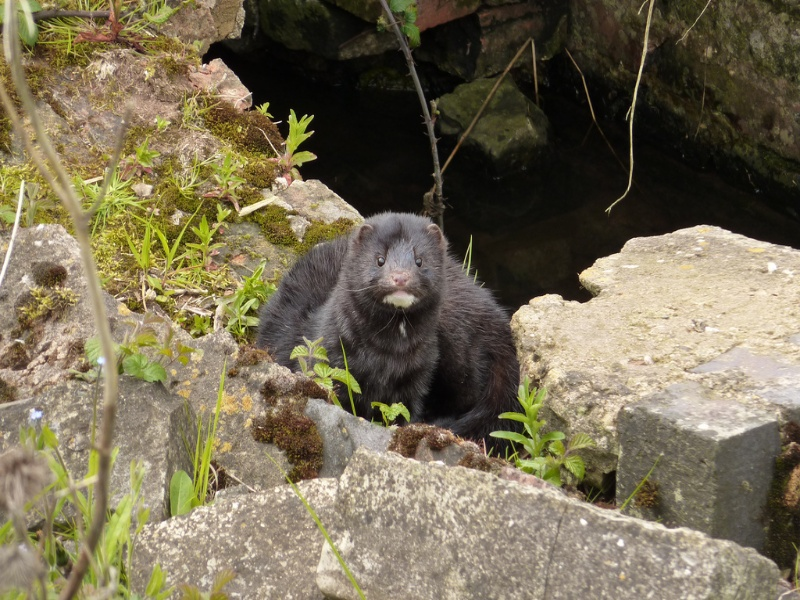minkish: (255, 210, 529, 463)
